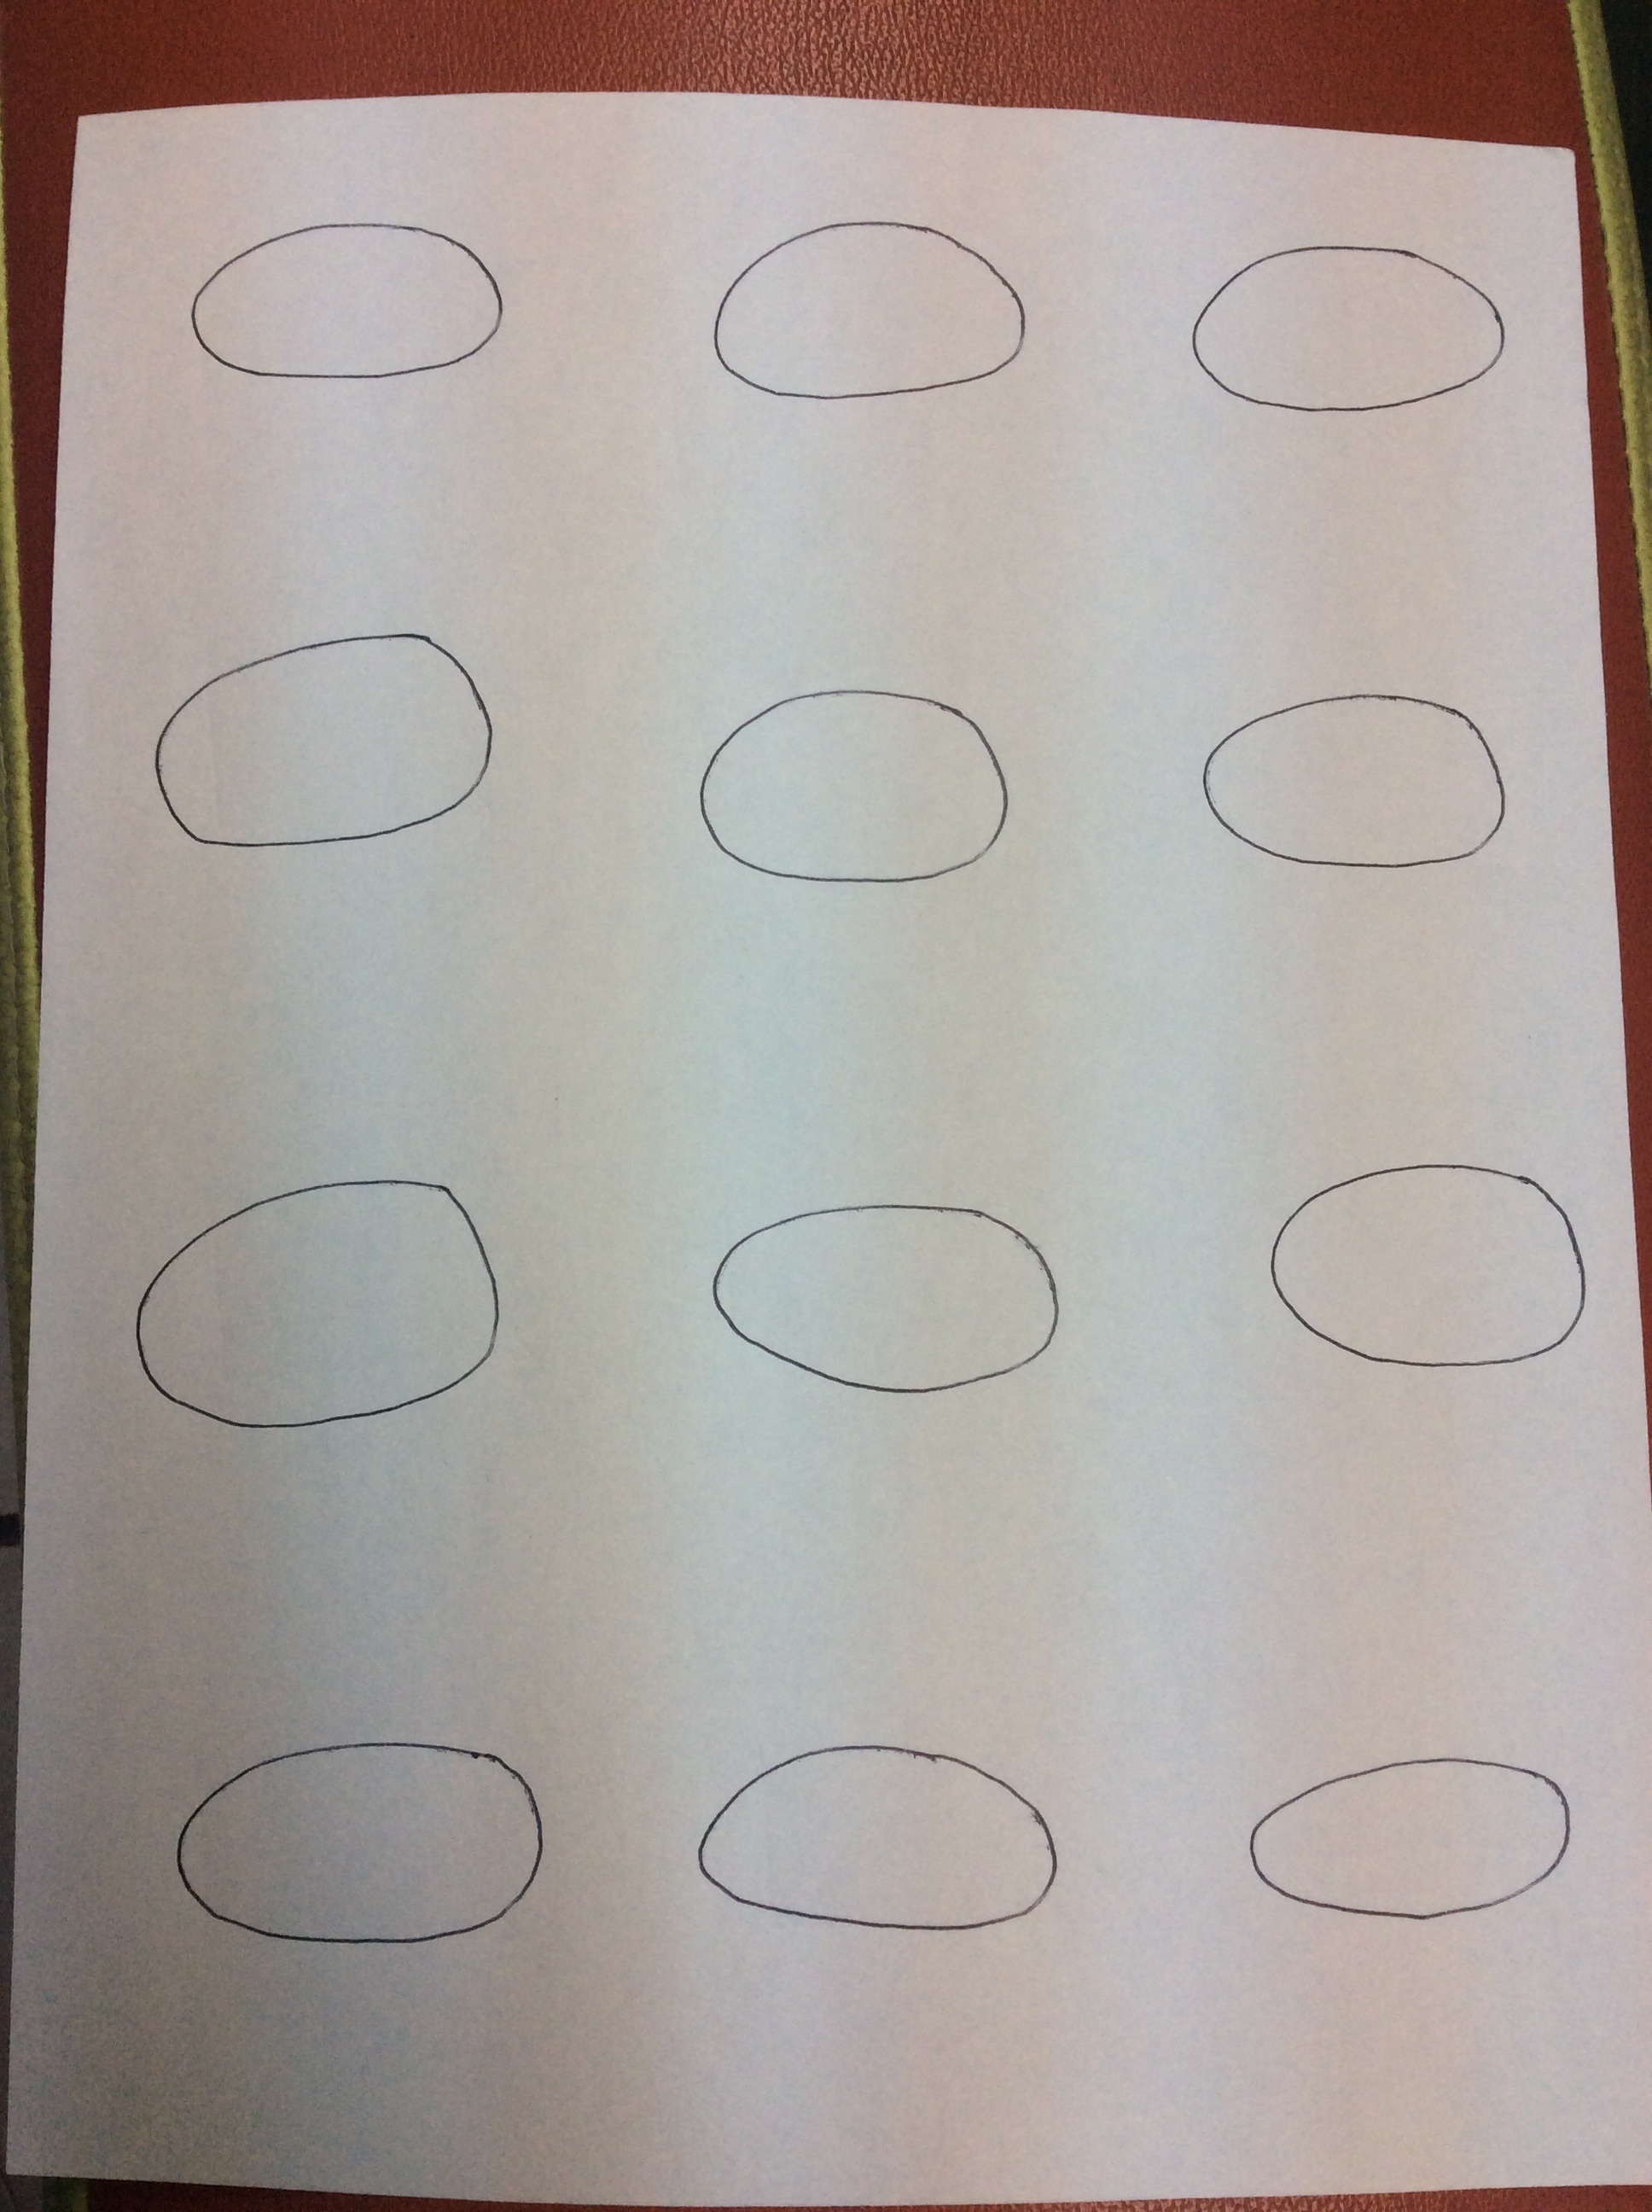start_end: (97, 1150, 531, 1454), (128, 1704, 559, 1976), (1216, 1122, 1609, 1404), (672, 1164, 1071, 1433), (651, 1714, 1081, 1959), (654, 649, 1043, 911), (121, 625, 521, 871), (1156, 659, 1541, 897), (673, 187, 1039, 427), (1206, 1735, 1600, 1955), (1152, 212, 1524, 430), (172, 198, 524, 420)
